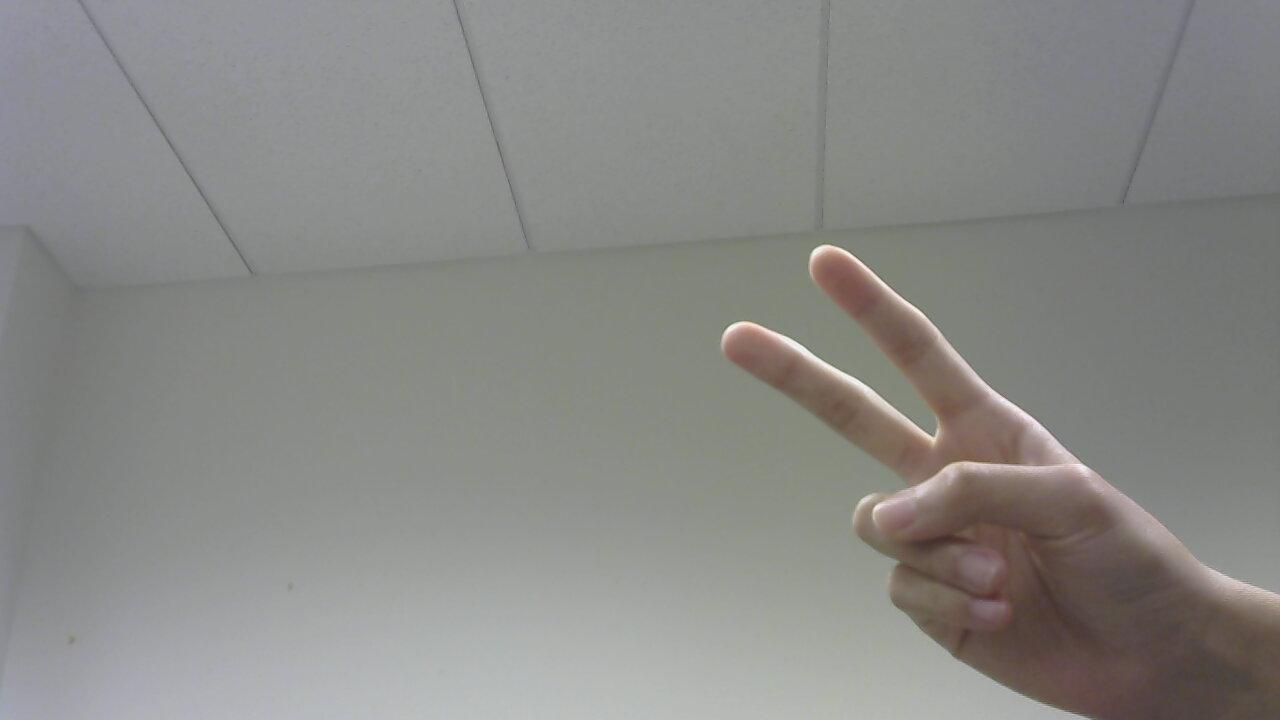peace: (703, 237, 1232, 720)
